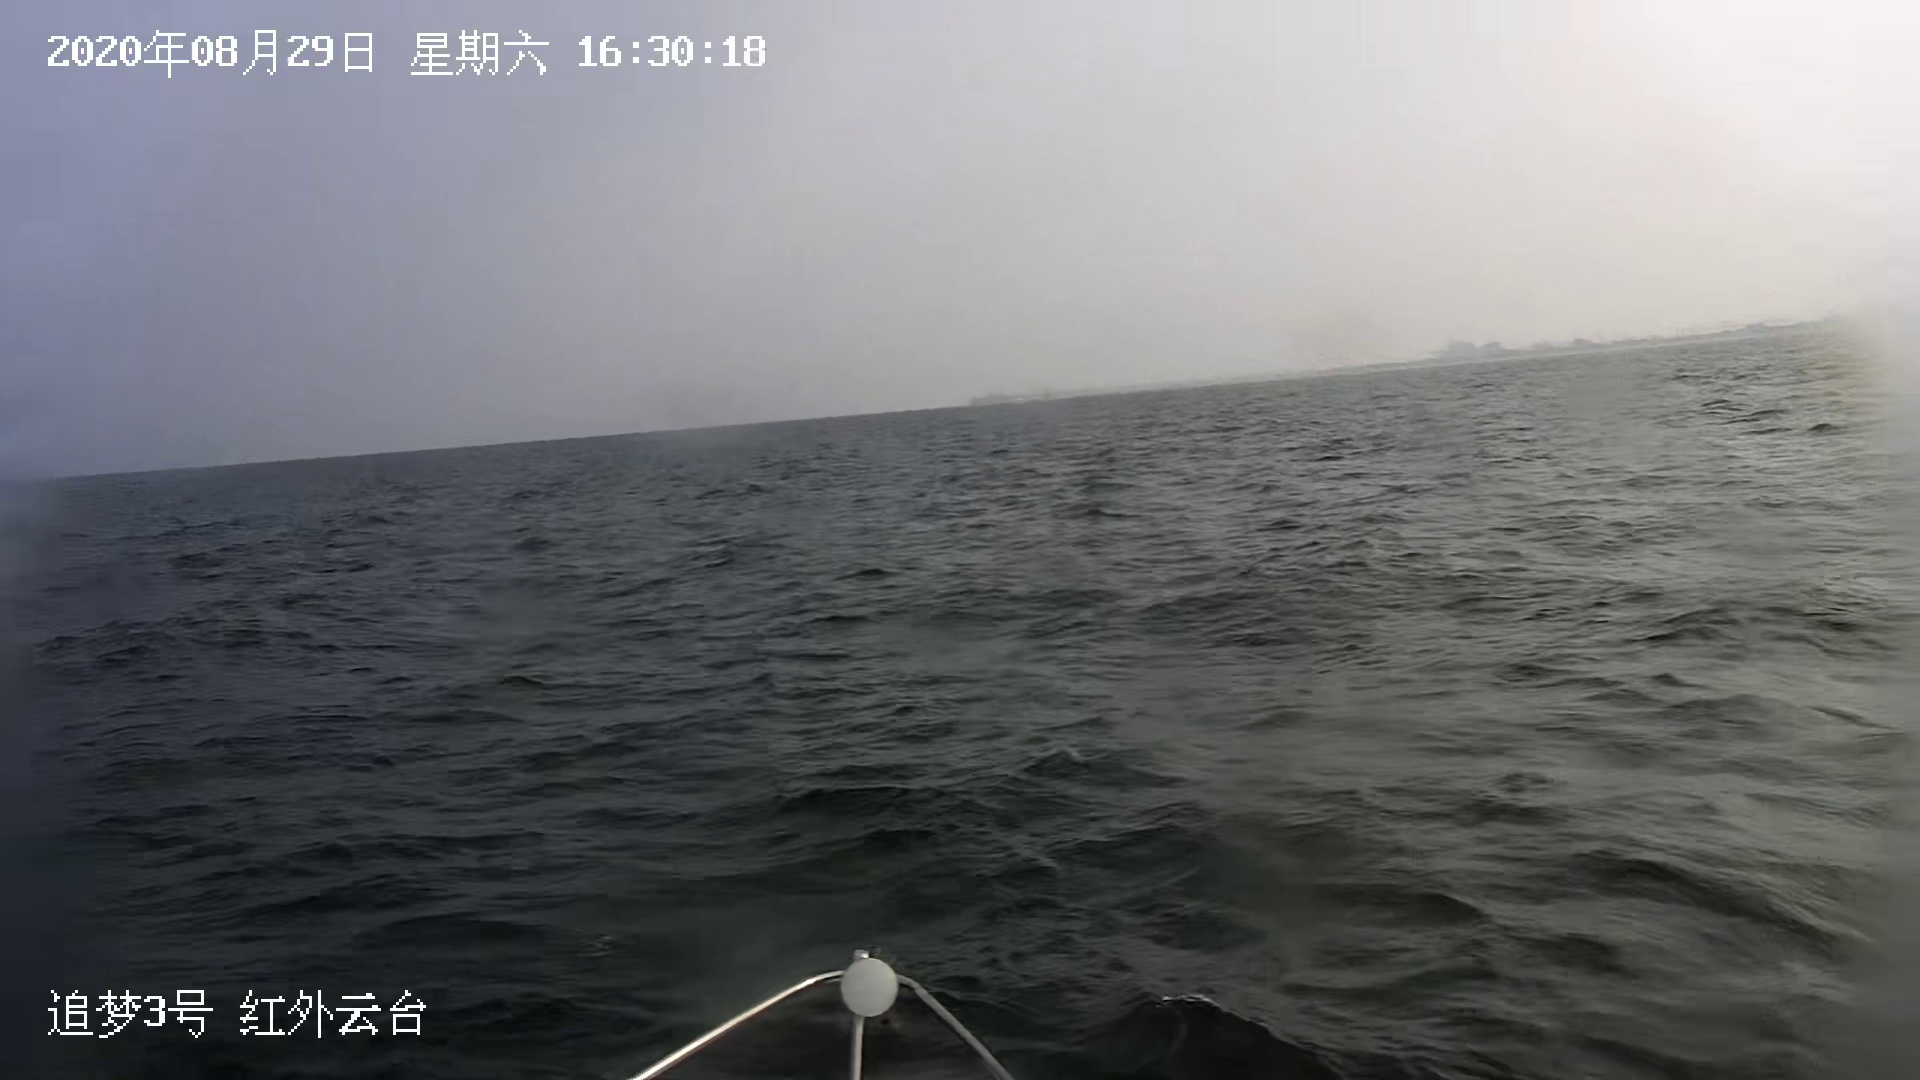coast: (967, 294, 1917, 404)
this: (632, 942, 1022, 1077)
